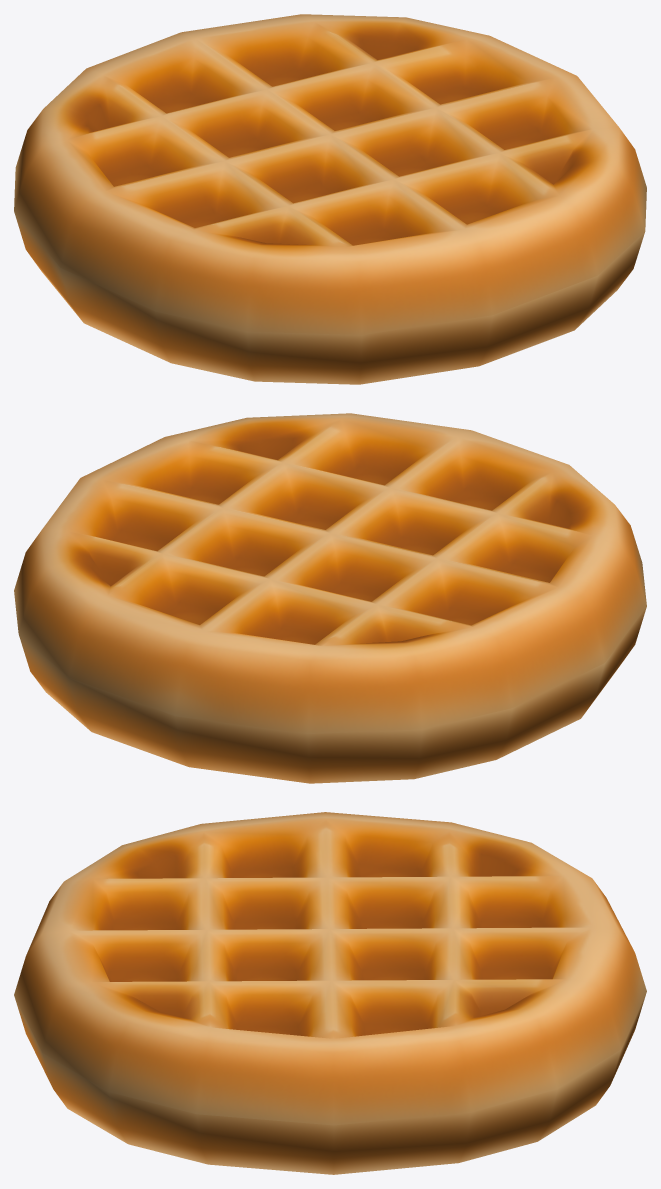
Rendered from 009-Waffles05.FBX.
3 views of the same model, one above another, from view 1: azimuth 30°, elevation 25°; view 2: azimuth 150°, elevation 25°; view 3: azimuth 270°, elevation 25° (orthographic).
Parts seen in each view (by area): view 1: 009-Waffles05; view 2: 009-Waffles05; view 3: 009-Waffles05.
Boxes of the visible parts, x1,y1,x2,y2 form: 009-Waffles05: (14, 14, 646, 384); 009-Waffles05: (14, 413, 646, 783); 009-Waffles05: (14, 812, 646, 1174).
Bounding box in the file's own units: 18.5 × 4.21 × 18.75.
